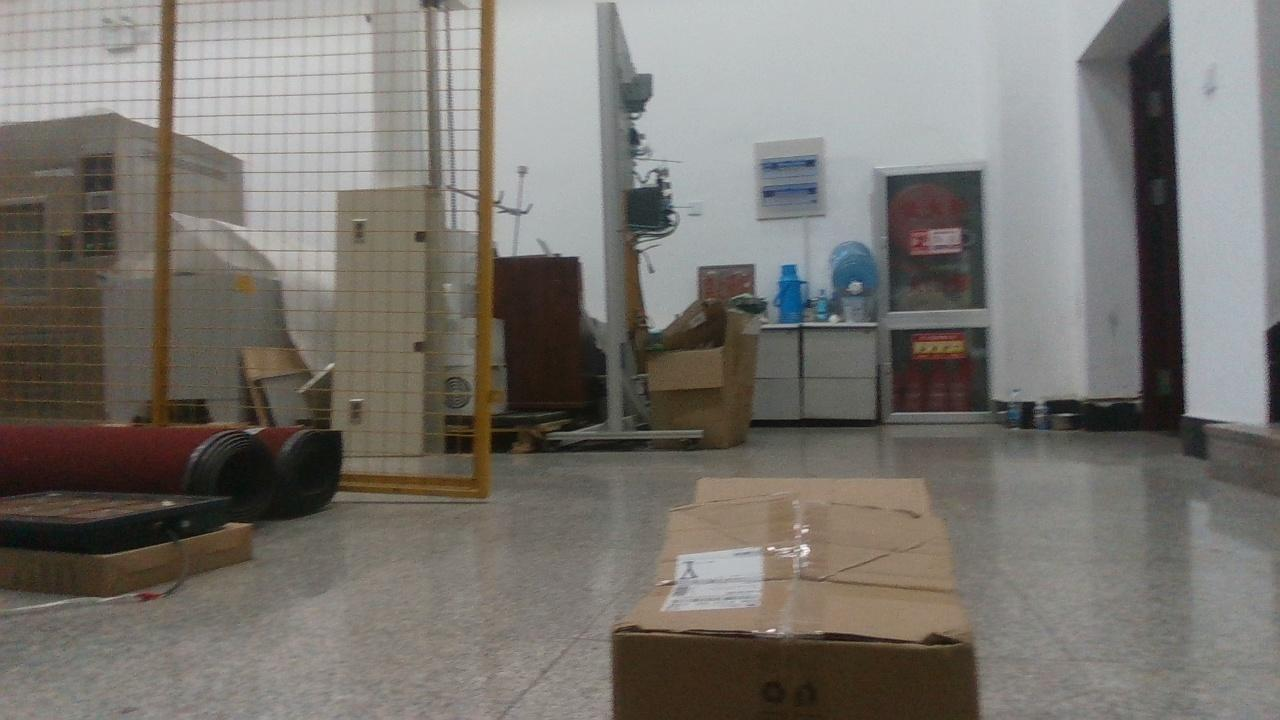box: (612, 478, 978, 718)
